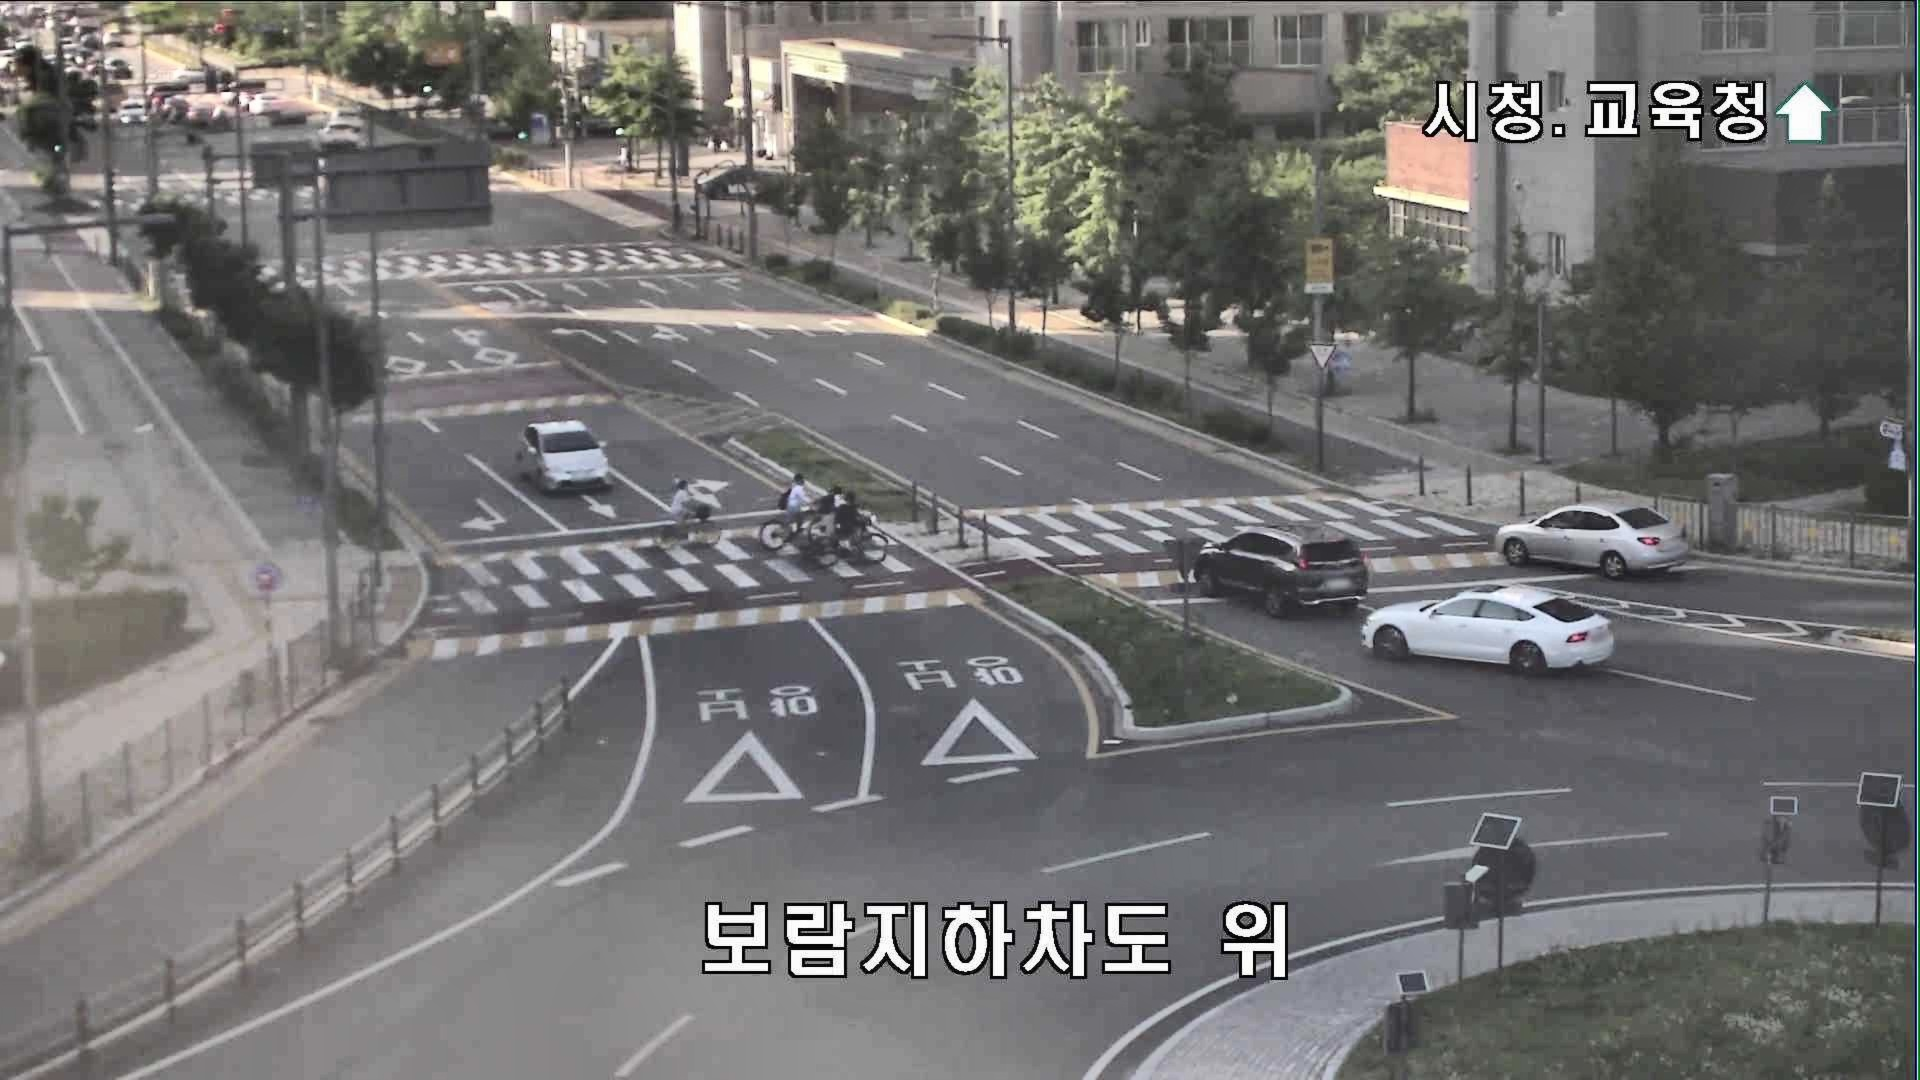crosswalk: (833, 492, 872, 554), (777, 472, 818, 526), (808, 483, 843, 541), (669, 479, 699, 535)
